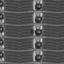dust: (29, 28, 34, 34)
